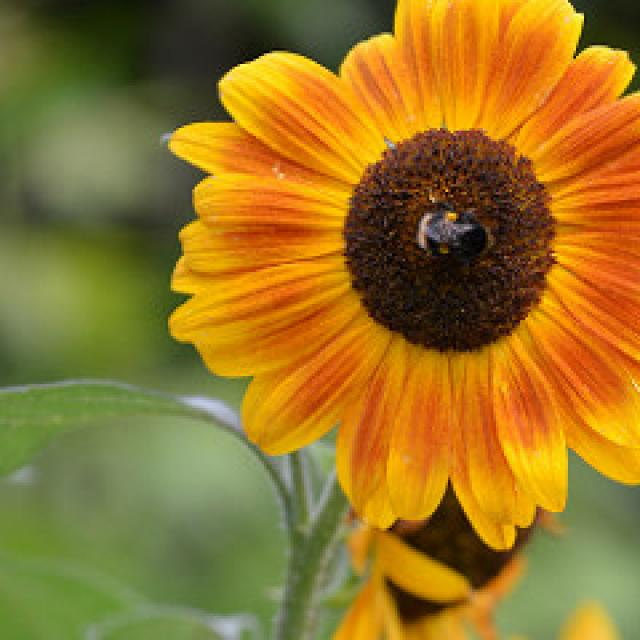sunflower: (168, 9, 640, 527)
